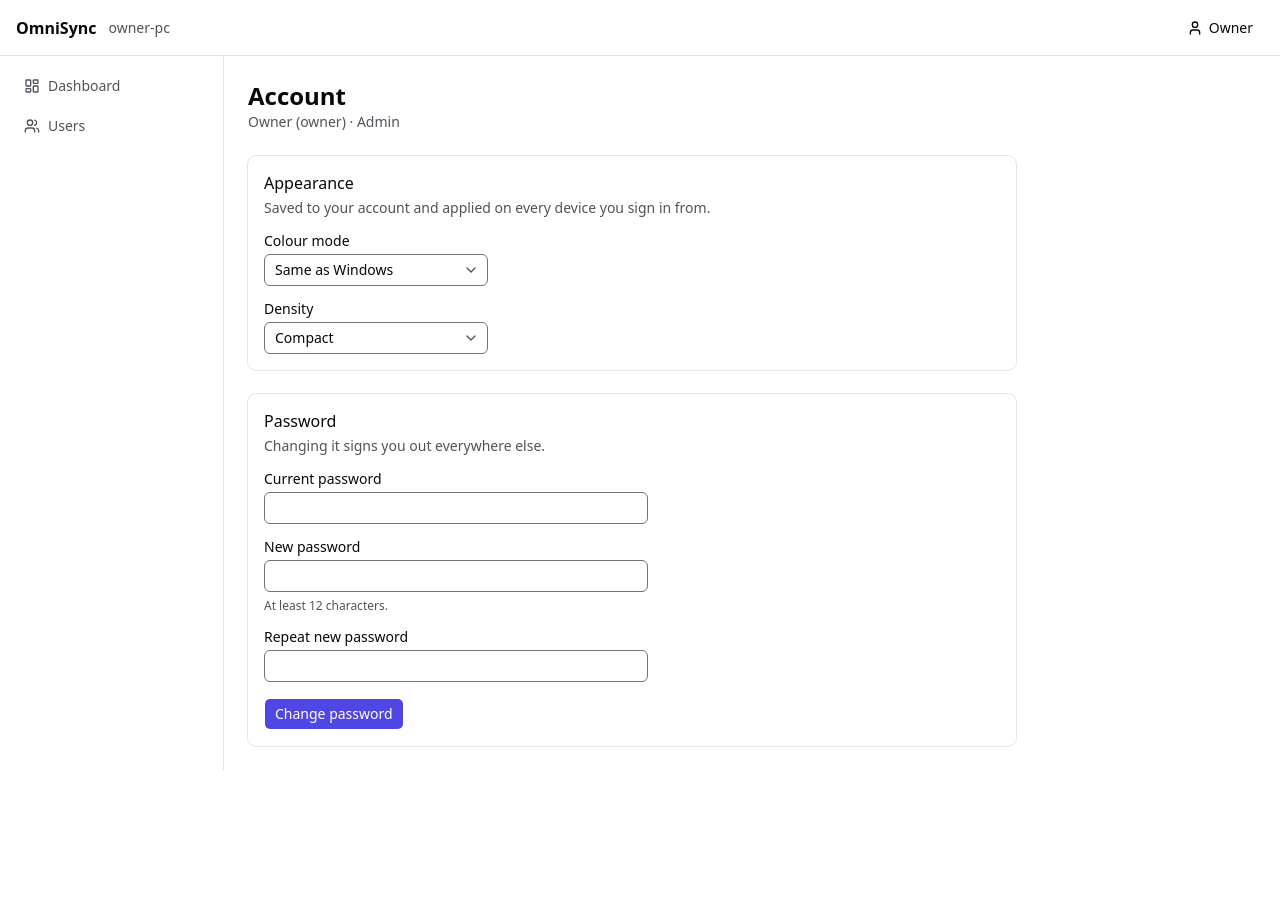
account › changes the password with matching confirmation
The width and height of the screenshot is (1280, 900).
In the password field labelled "Current password": (456, 508) left=264, top=492, right=648, bottom=524, type "old-password-value"
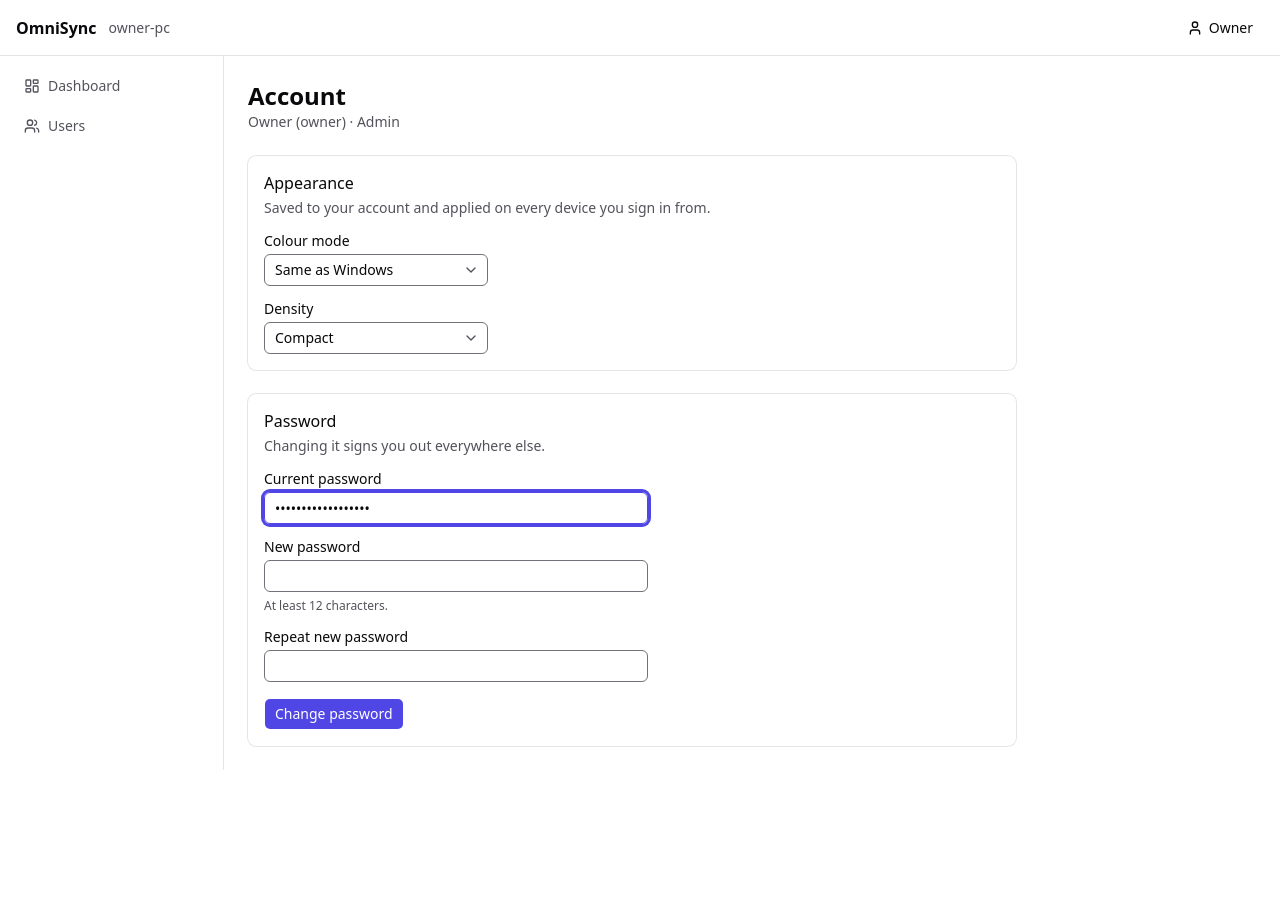
In the password field labelled "New password": (456, 576) left=264, top=560, right=648, bottom=592, type "a-much-better-passphrase"
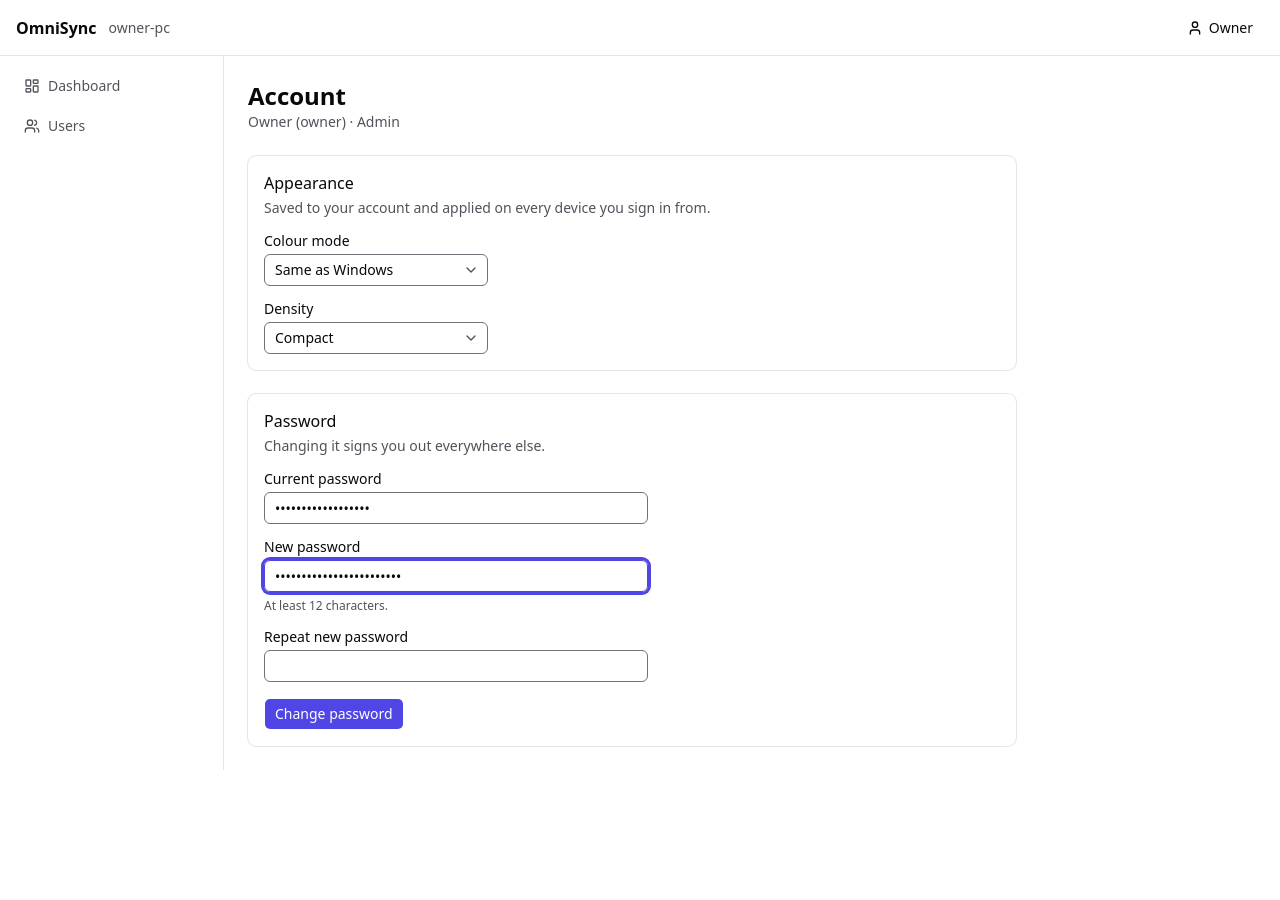
In the password field labelled "Repeat new password": (456, 666) left=264, top=650, right=648, bottom=682, type "a-much-better-passphrase"
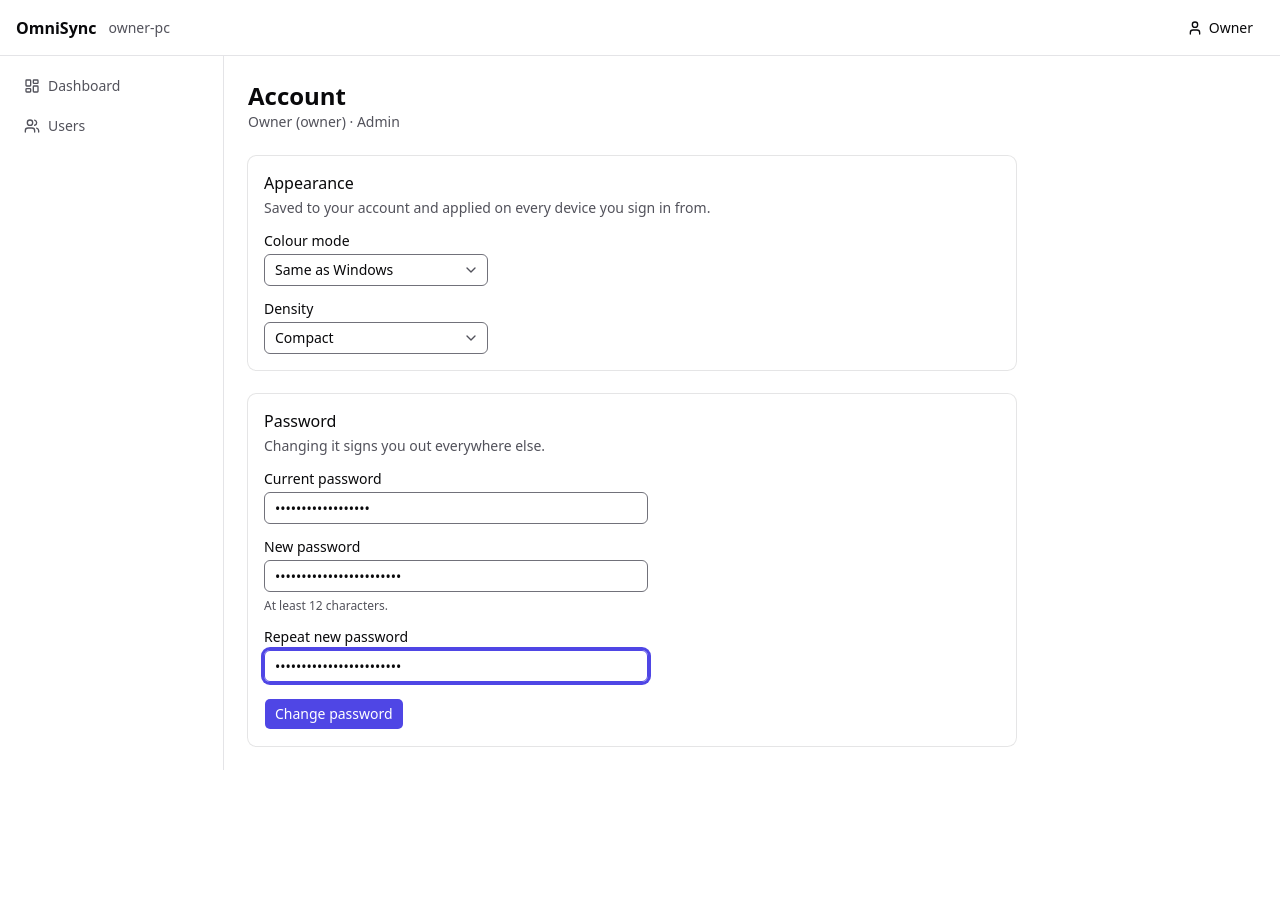
Click the button "Change password": (334, 714) left=264, top=698, right=404, bottom=730
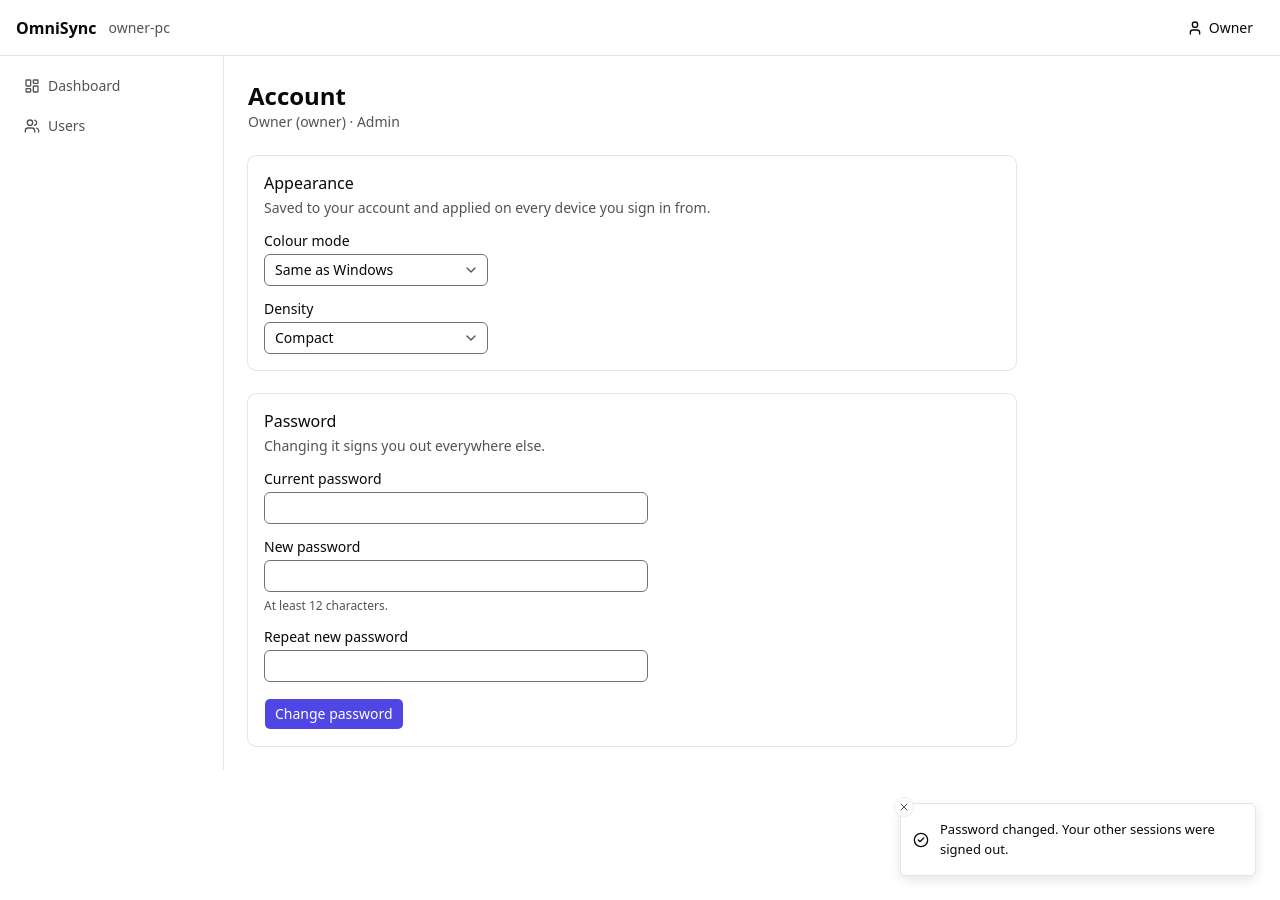
Now the text "Password changed. Your other sessions were signed out." is shown, box left=940, top=820, right=1239, bottom=859
